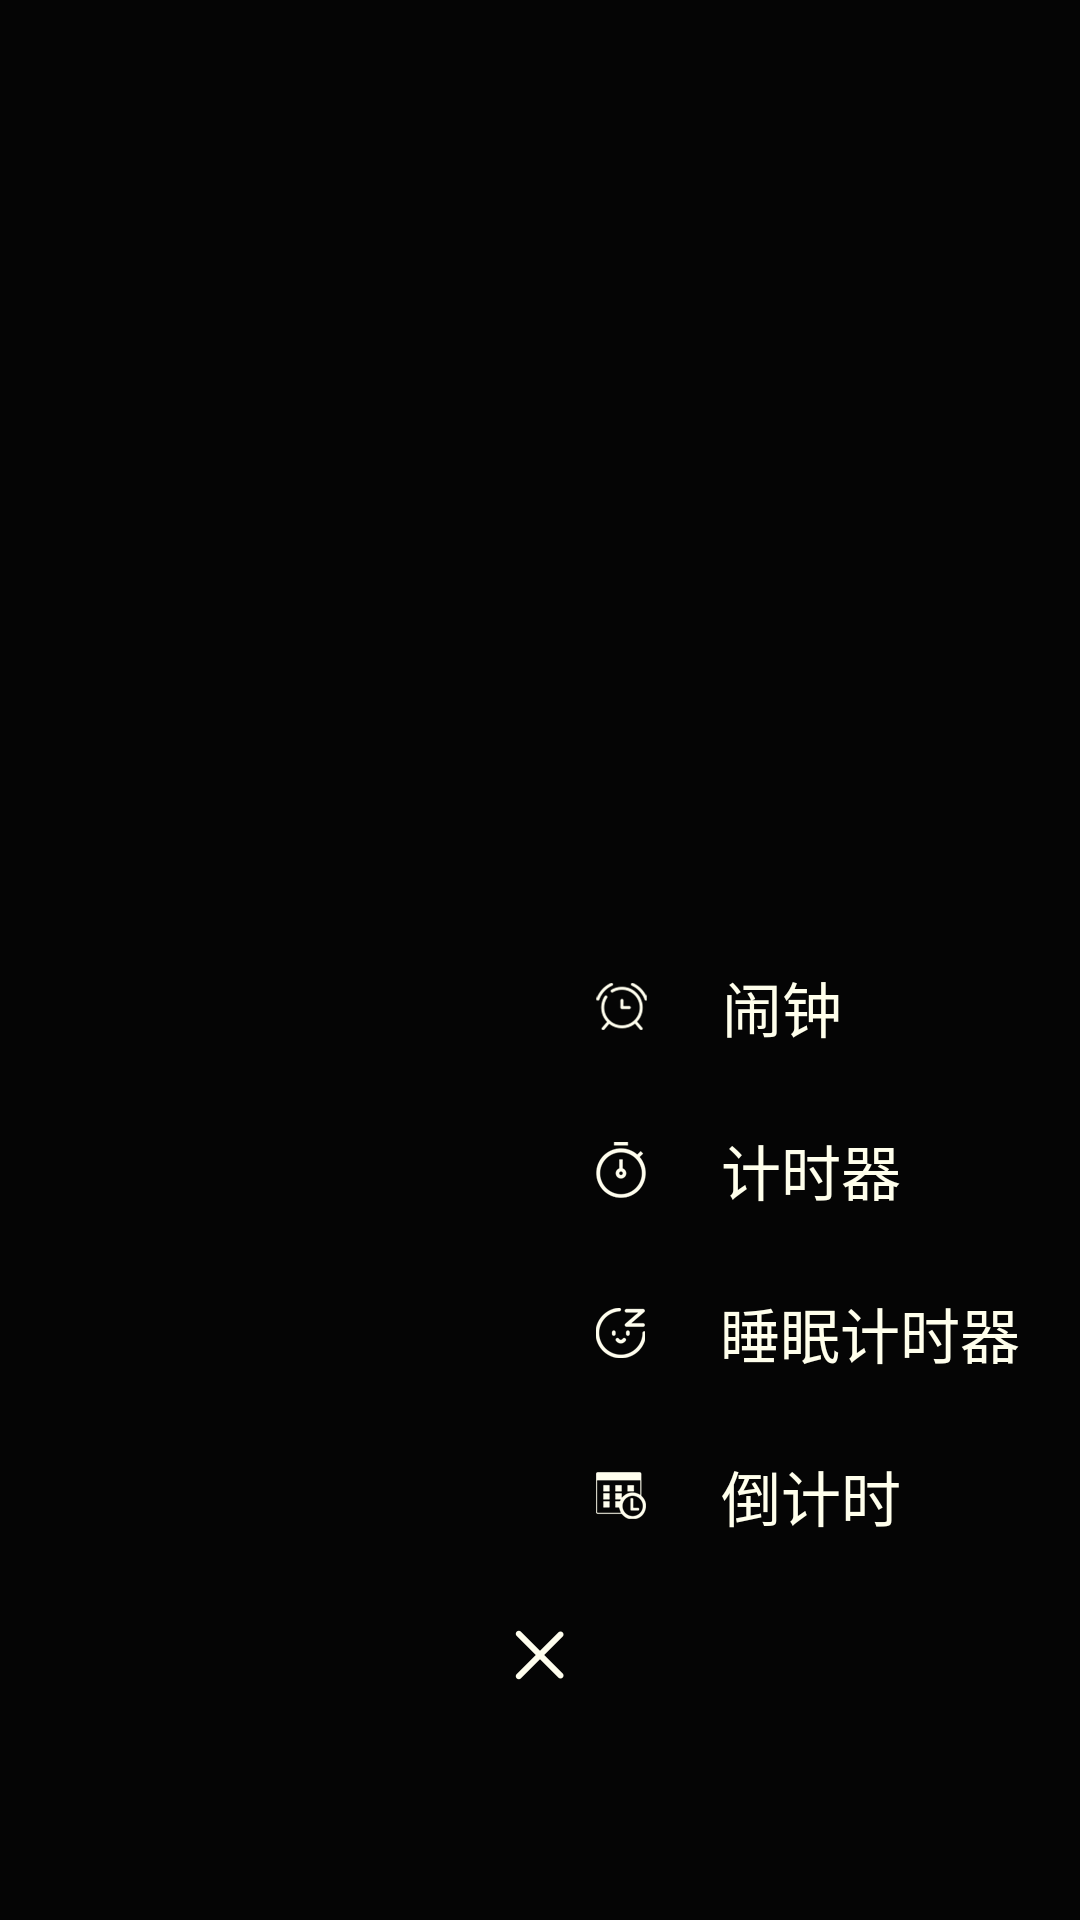

Named icons in this screenshot (1080*1920) and their bounding boxes, (x1, y1, x2, y2):
add to cancle: (515, 1630, 564, 1680)
